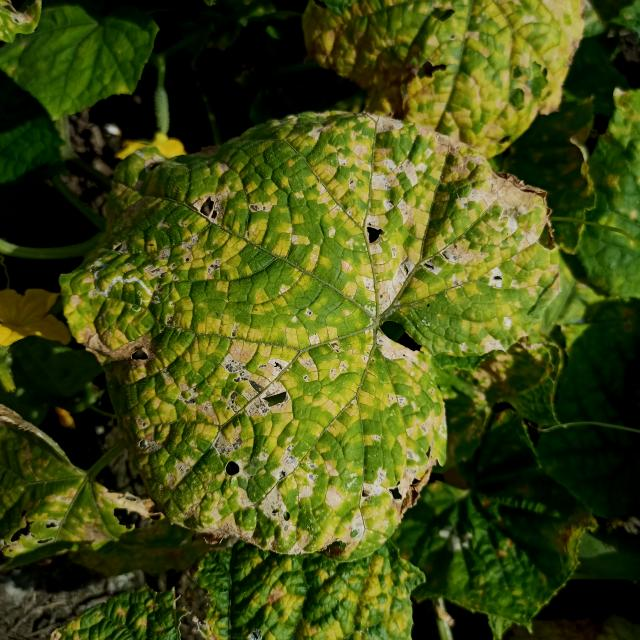disease_cucumber: (60, 111, 545, 548), (296, 0, 593, 142)
